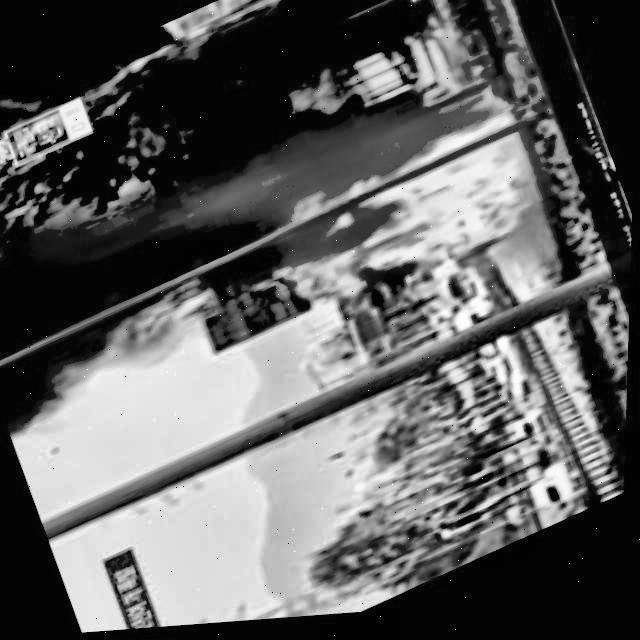Fire: (352, 122, 560, 295)
Smoke: (0, 110, 377, 439)
